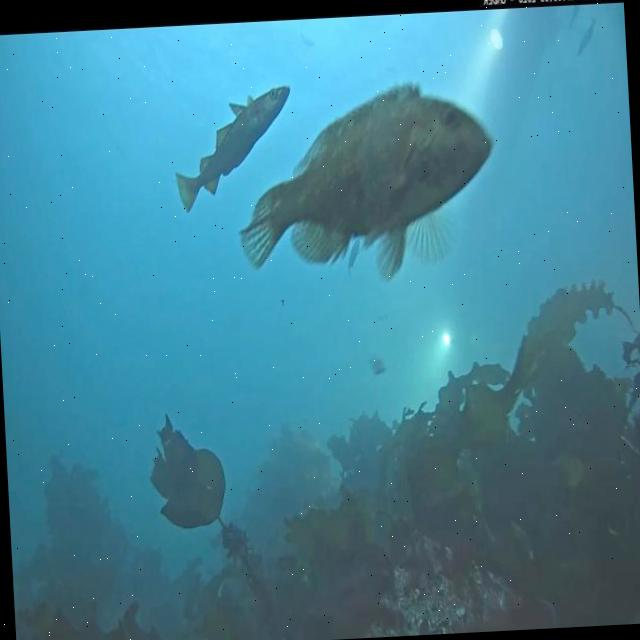fish: (233, 76, 501, 290), (171, 83, 297, 215), (577, 20, 598, 55), (345, 238, 363, 278), (566, 6, 582, 30)
